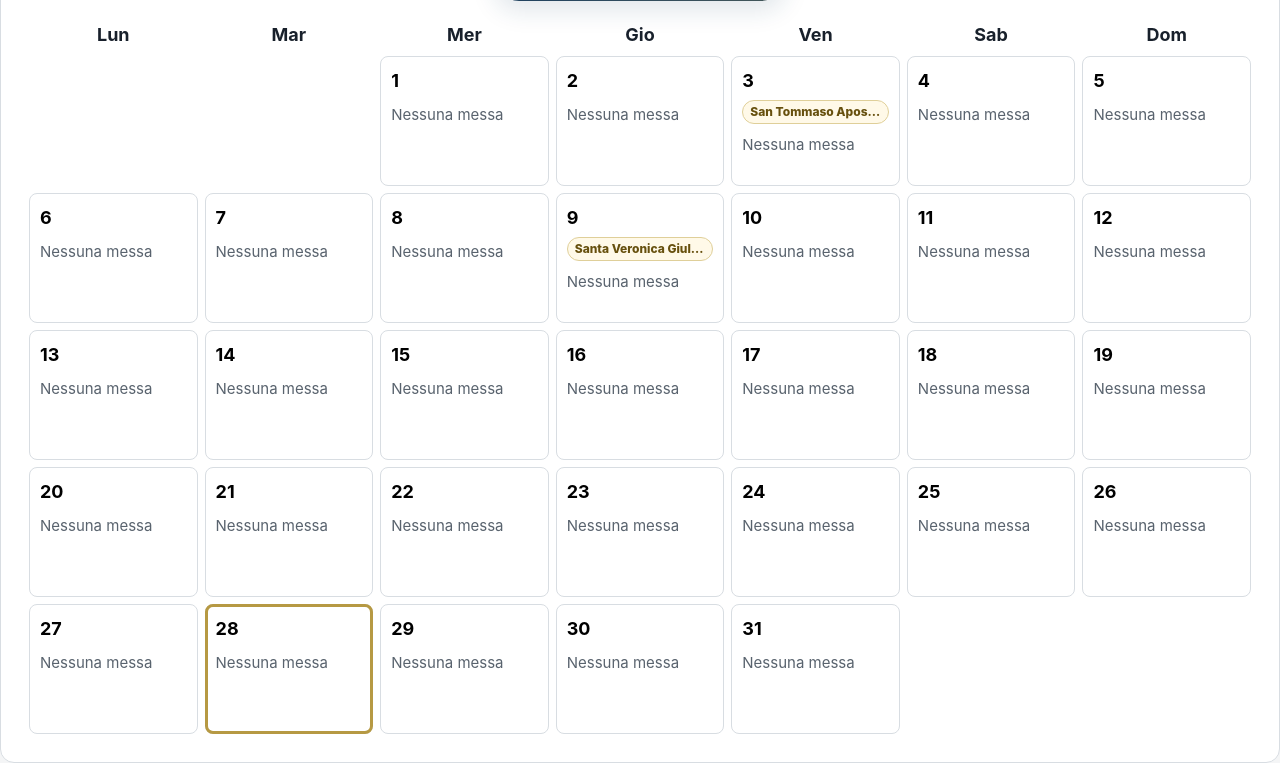
dettaglio giornata › chiede una conferma motivata prima di eliminare
(page scrolled)
Click the button "28 Nessuna messa": [289, 669] box [205,604,373,734]
(page scrolled)
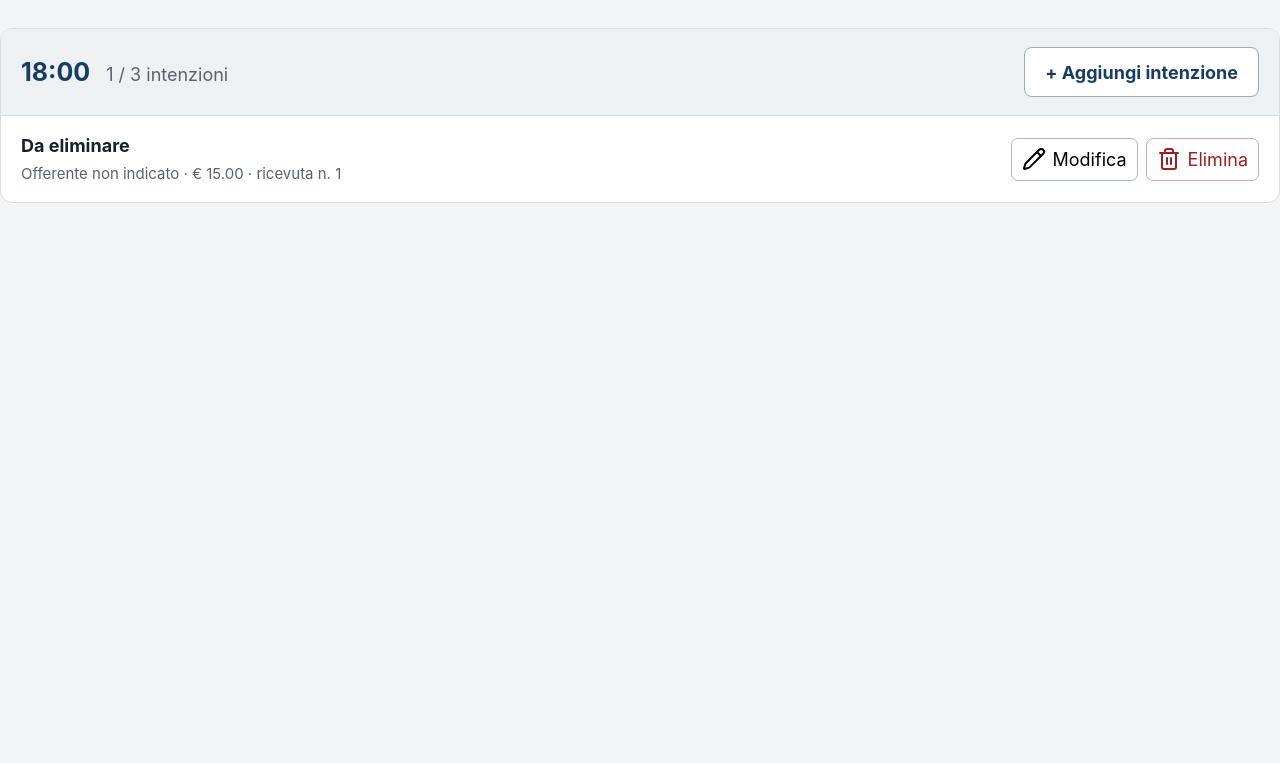
Click the button "Elimina": [1202, 159] box [1146,138,1259,181]
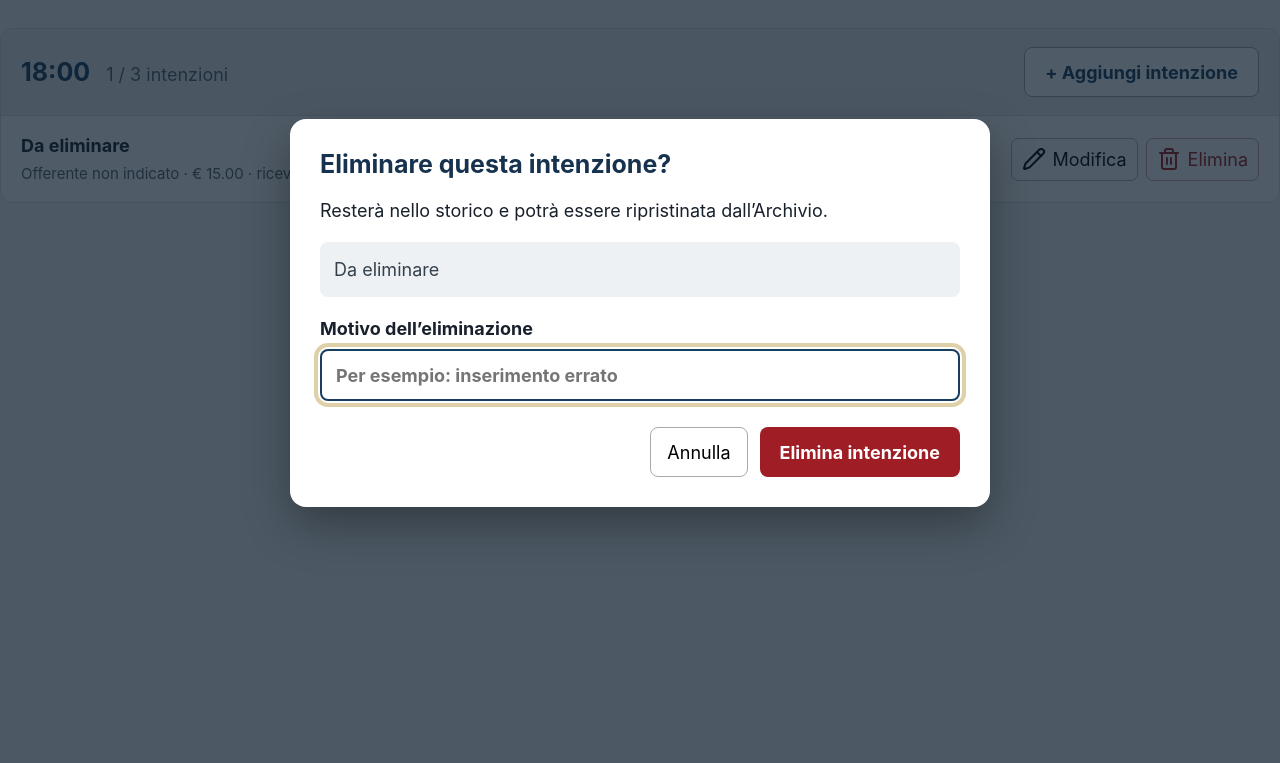
Check: the text "potrà essere ripristinata" is shown, box [320,200,828,221]
